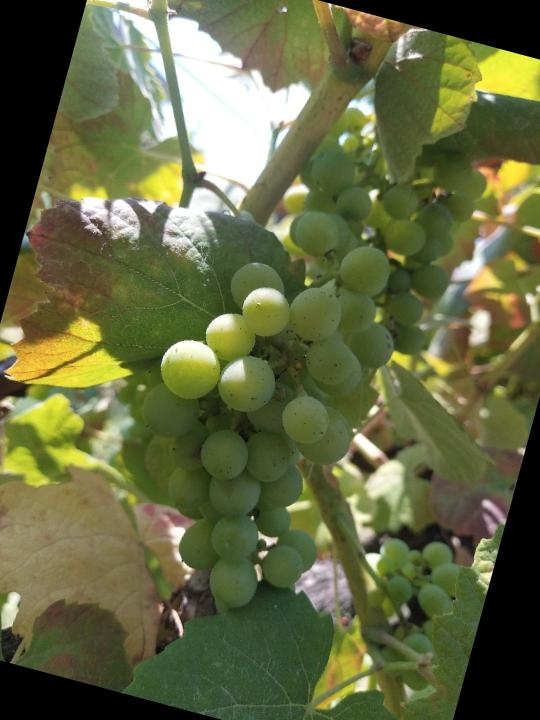grape: (100, 198, 422, 637)
